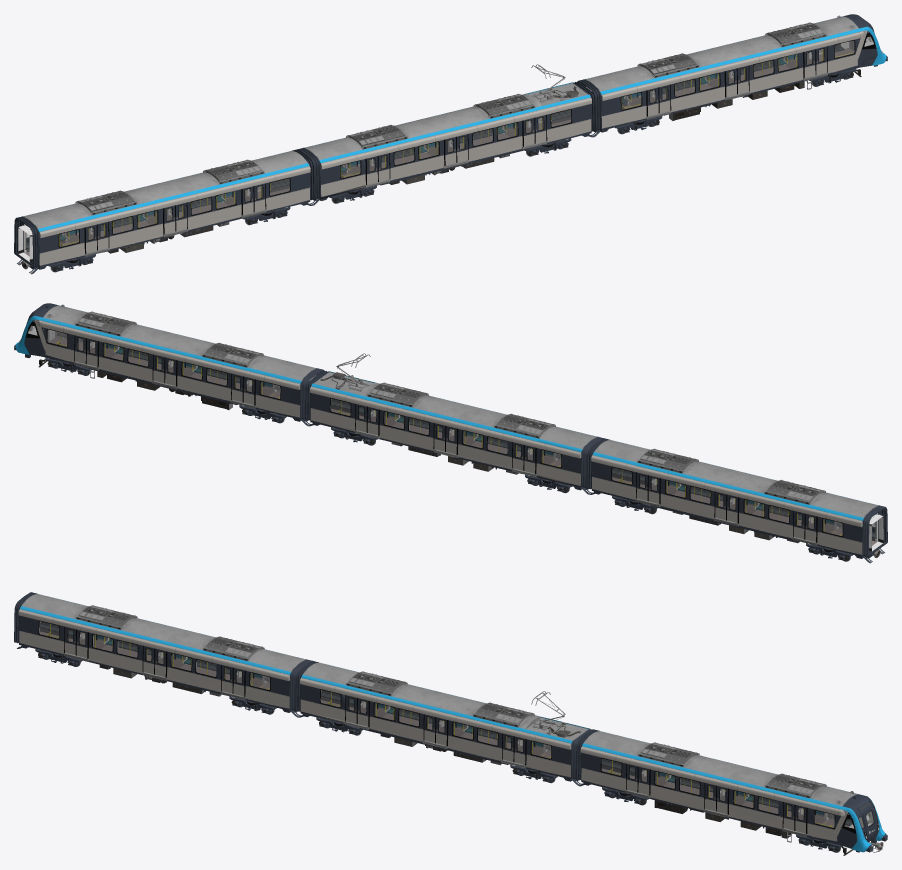
Rendered from metropolis.glb.
The picture shows the model from 3 angles, top to bottom: view 1: azimuth 30°, elevation 25°; view 2: azimuth 150°, elevation 25°; view 3: azimuth 330°, elevation 25°; orthographic projection.
Visible parts, largest first — view 1: exterior, exterior_trailer_lod0, exterior.001, interior.002, interior, interior.001, glass, glass.002, glass.001; view 2: exterior, exterior_trailer_lod0, exterior.001, interior.002, interior, interior.001, glass, glass.001, glass.002; view 3: exterior, exterior_trailer_lod0, exterior.001, interior, interior.002, interior.001, glass, glass.001, glass.002.
Boxes of the visible parts, x1,y1,x2,y2 form: exterior: [578, 14, 887, 136]; exterior_trailer_lod0: [14, 149, 315, 274]; exterior.001: [299, 81, 596, 205]; interior.002: [18, 178, 289, 262]; interior: [586, 37, 873, 109]; interior.001: [340, 109, 571, 178]; glass: [621, 37, 873, 109]; glass.002: [59, 178, 289, 246]; glass.001: [341, 110, 570, 178]; exterior: [14, 303, 323, 425]; exterior_trailer_lod0: [586, 438, 887, 563]; exterior.001: [305, 370, 602, 494]; interior.002: [612, 467, 883, 551]; interior: [28, 326, 315, 398]; interior.001: [330, 398, 561, 467]; glass: [28, 326, 280, 398]; glass.001: [331, 399, 560, 467]; glass.002: [612, 467, 842, 535]; exterior: [576, 729, 887, 852]; exterior_trailer_lod0: [14, 592, 311, 717]; exterior.001: [295, 660, 591, 785]; interior: [601, 758, 873, 828]; interior.002: [39, 621, 269, 689]; interior.001: [320, 690, 551, 758]; glass: [601, 759, 876, 828]; glass.001: [321, 690, 550, 758]; glass.002: [39, 621, 269, 689].
Bounding box in the file's own units: 66.86 × 5.95 × 3.05.
8 materials, 7 textured.
